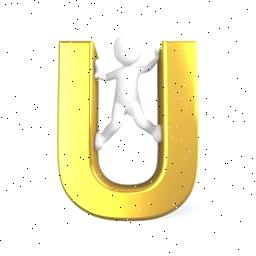u: (39, 32, 227, 228)
